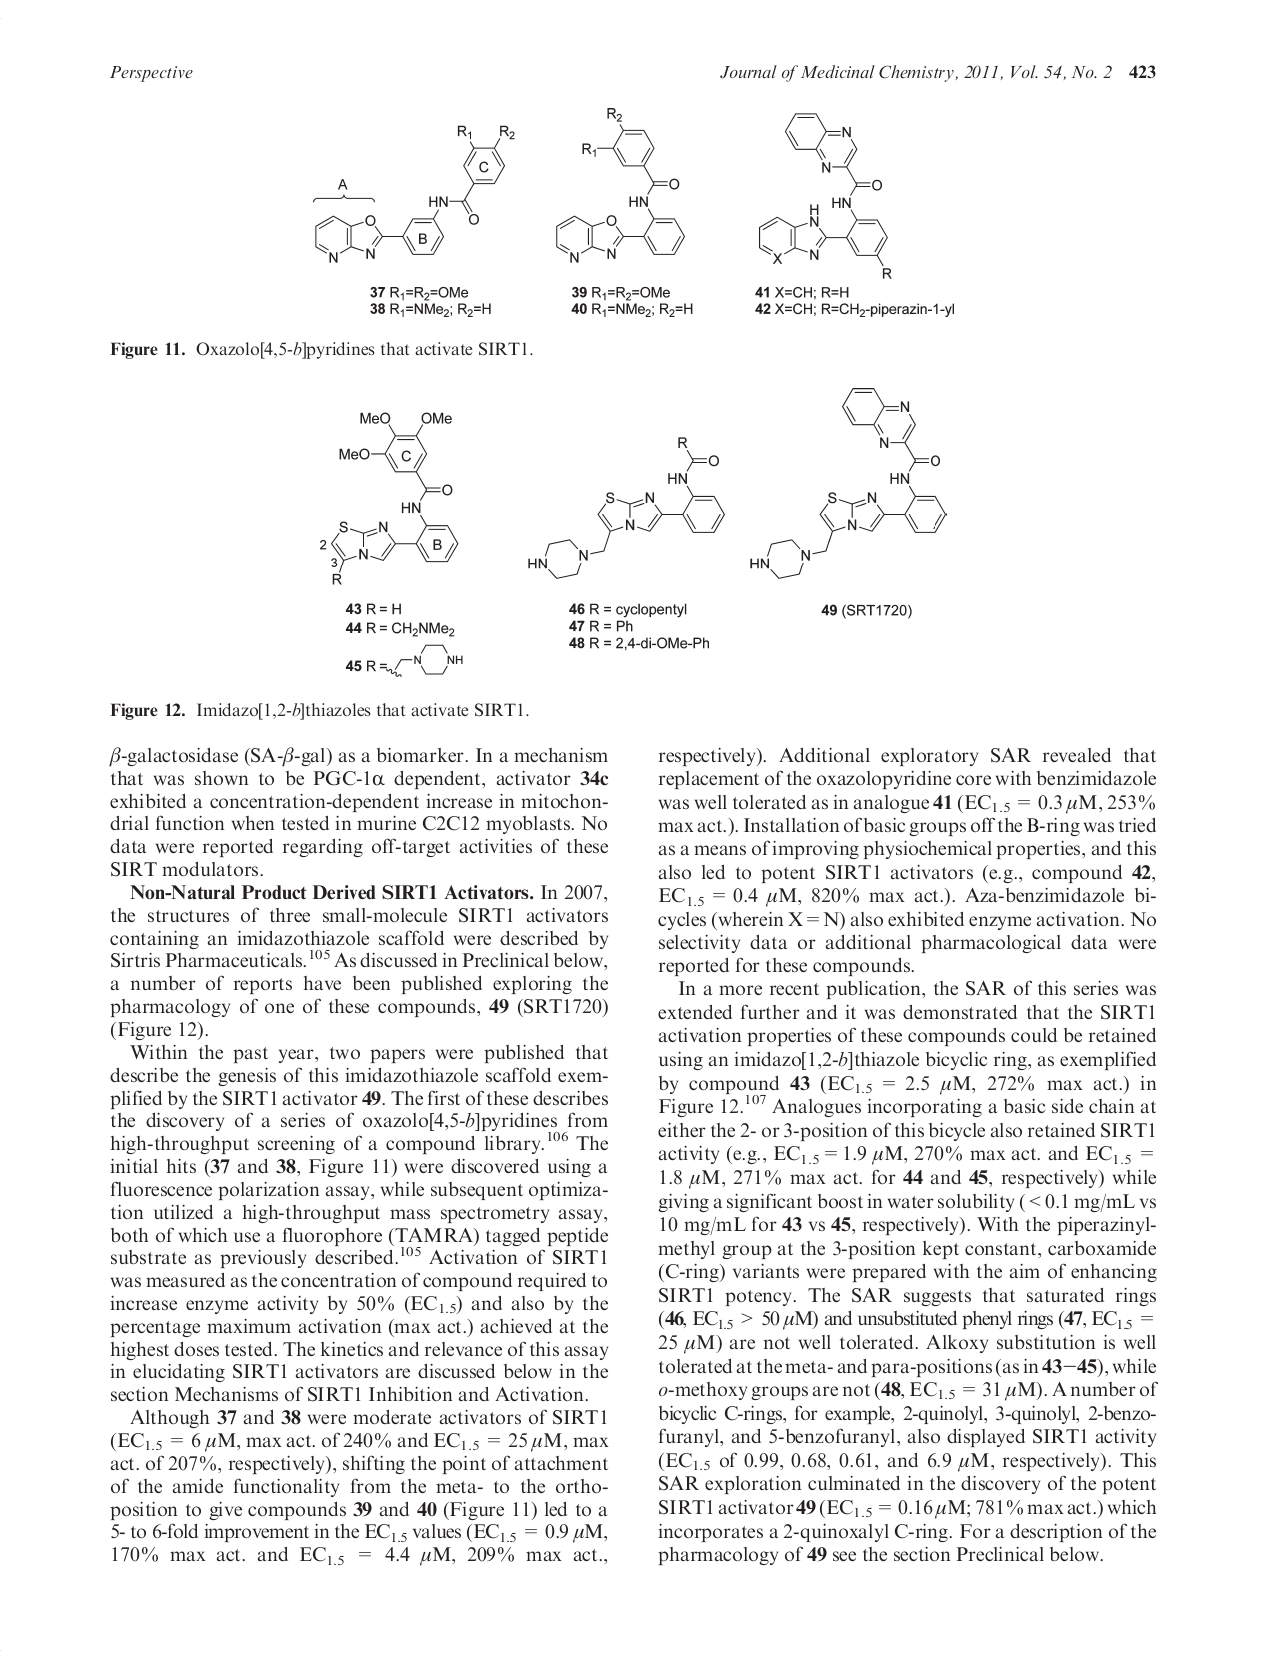exist_molecular: (747, 386, 948, 578), (524, 432, 727, 581), (309, 122, 516, 267), (755, 108, 898, 282), (327, 408, 461, 590), (552, 102, 688, 273), (387, 644, 467, 680)
